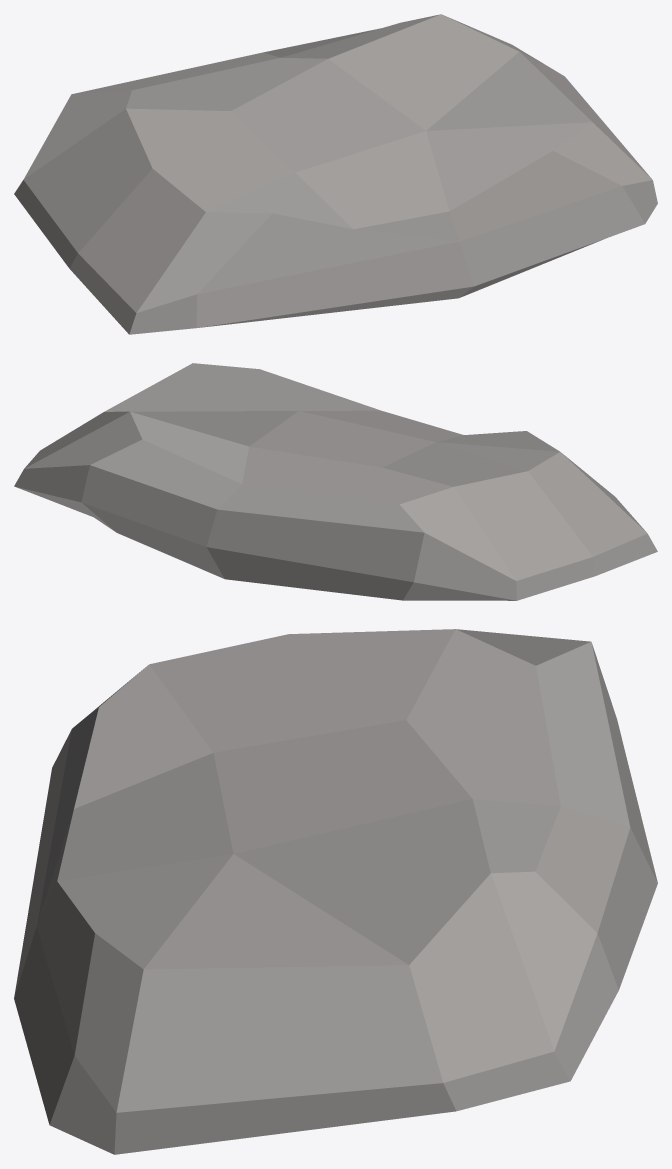
The model's file is SM_Prop_Bed_Pillow_01.fbx.
3 views of the same model, one above another, from view 1: azimuth 30°, elevation 25°; view 2: azimuth 150°, elevation 25°; view 3: azimuth 270°, elevation 25° (orthographic). The views are drawn at different scales.
Visible parts, largest first — view 1: SM_Prop_Bed_Pillow_01; view 2: SM_Prop_Bed_Pillow_01; view 3: SM_Prop_Bed_Pillow_01.
Boxes of the visible parts, x1,y1,x2,y2 form: SM_Prop_Bed_Pillow_01: (14, 14, 657, 334); SM_Prop_Bed_Pillow_01: (14, 363, 657, 600); SM_Prop_Bed_Pillow_01: (14, 629, 657, 1154).
Bounding box in the file's own units: 68.31 × 19.91 × 43.82.
